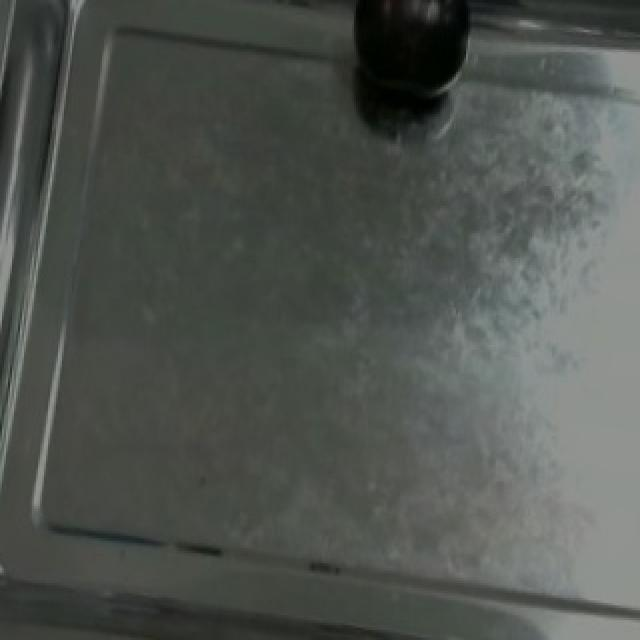Fruit: (338, 0, 490, 117)
